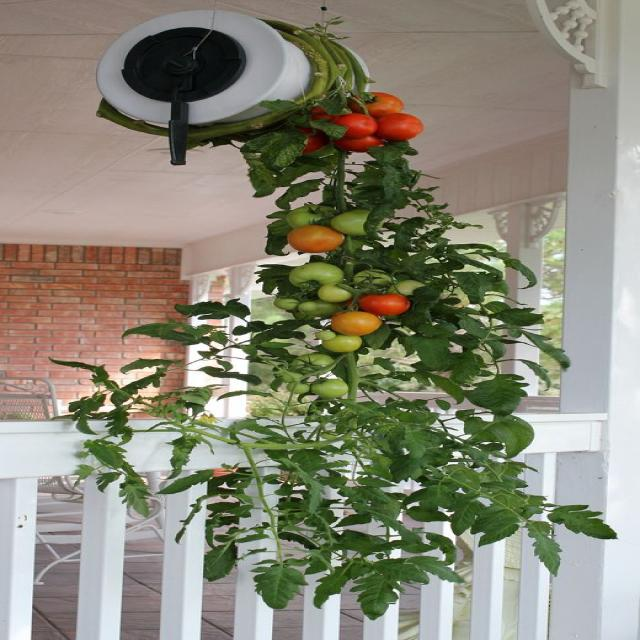level 2: (288, 206, 345, 233), (330, 210, 386, 237), (288, 262, 343, 289), (299, 297, 345, 319), (353, 268, 400, 288), (292, 354, 336, 374), (310, 378, 351, 398), (322, 332, 362, 352), (318, 283, 353, 300), (289, 382, 314, 394), (313, 330, 337, 340), (278, 300, 301, 310)
level 4: (327, 311, 382, 335)
level 5: (288, 225, 343, 252)
level 6: (370, 114, 426, 140), (272, 130, 324, 155), (352, 92, 402, 118), (325, 114, 377, 138), (331, 129, 383, 153), (360, 294, 410, 318), (304, 102, 350, 128)
